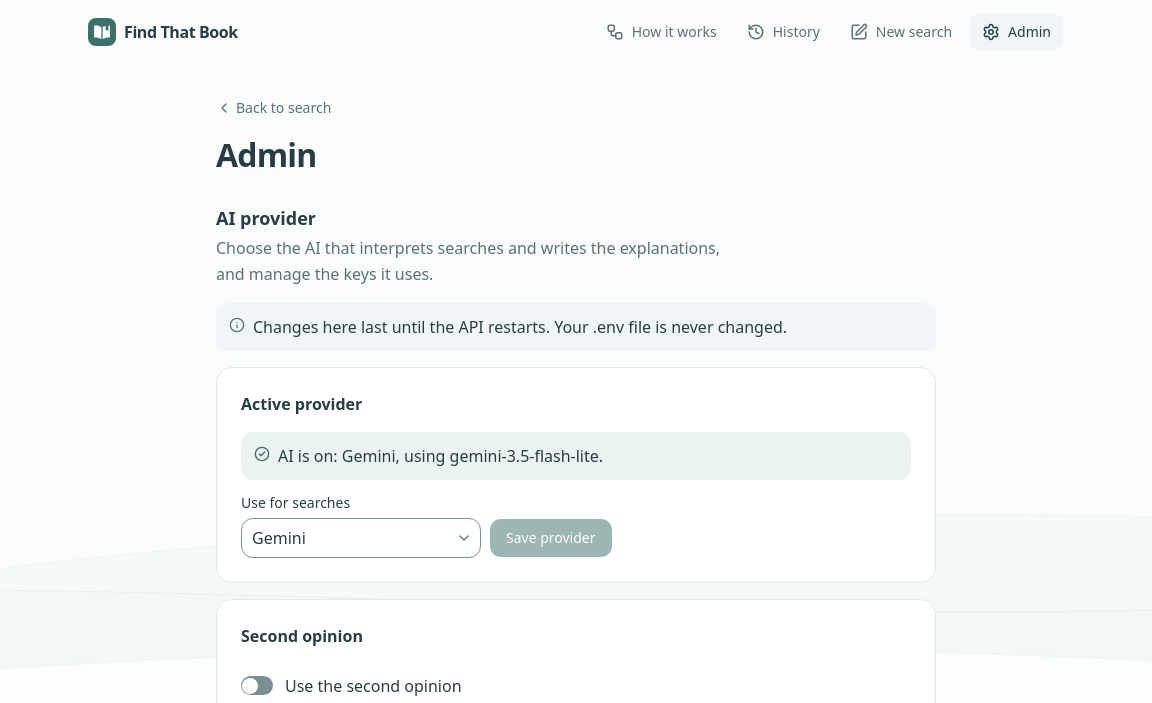
Test case: Admin page › warns before choosing a provider without a key, and shows a failed save next to the control
The width and height of the screenshot is (1152, 703).
Click the dropdown named "Use for searches".
click(361, 538)  # box left=241, top=518, right=481, bottom=558
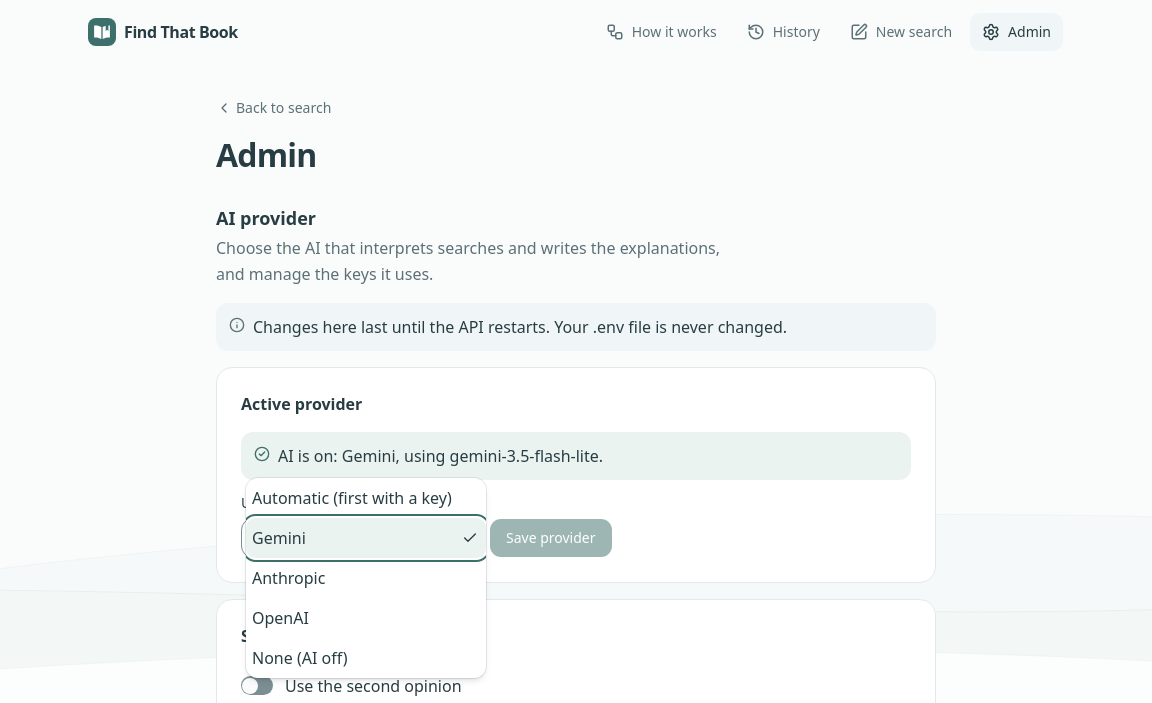
Click the option "Anthropic".
click(289, 578)  # box left=252, top=567, right=325, bottom=589
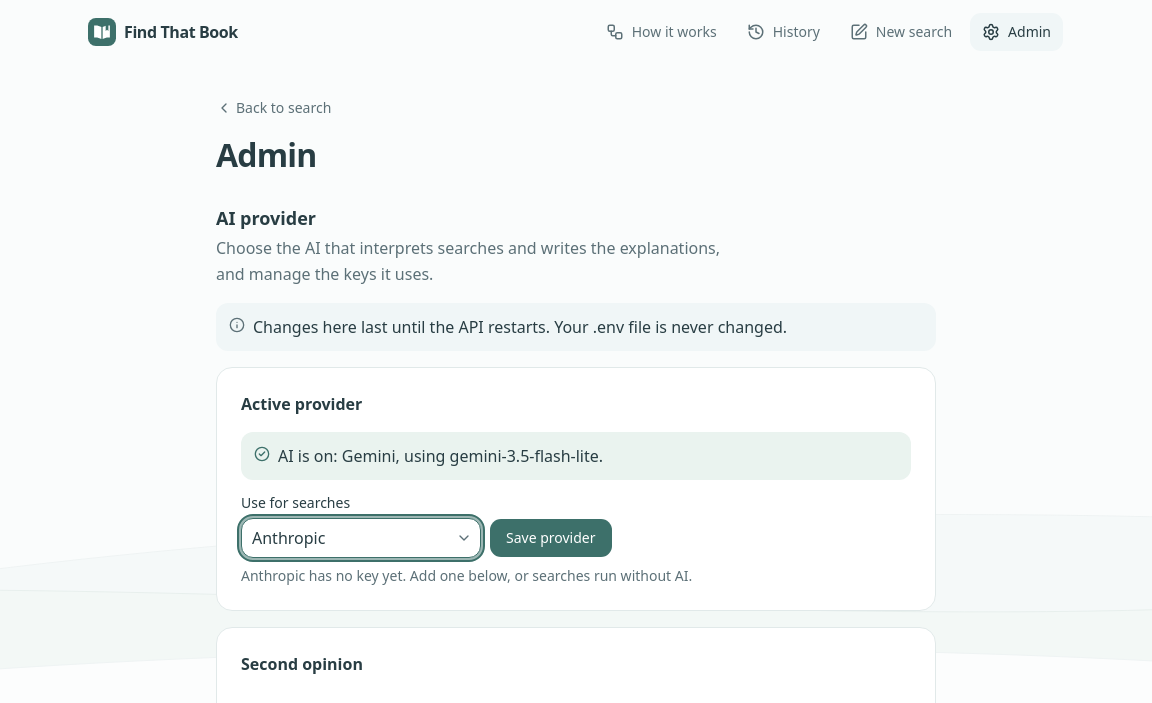
Now the text "Anthropic has no key yet. Add one below, or searches run without AI." is shown, box left=241, top=566, right=692, bottom=585
Click the button "Save provider".
click(551, 538)  # box left=489, top=518, right=612, bottom=558
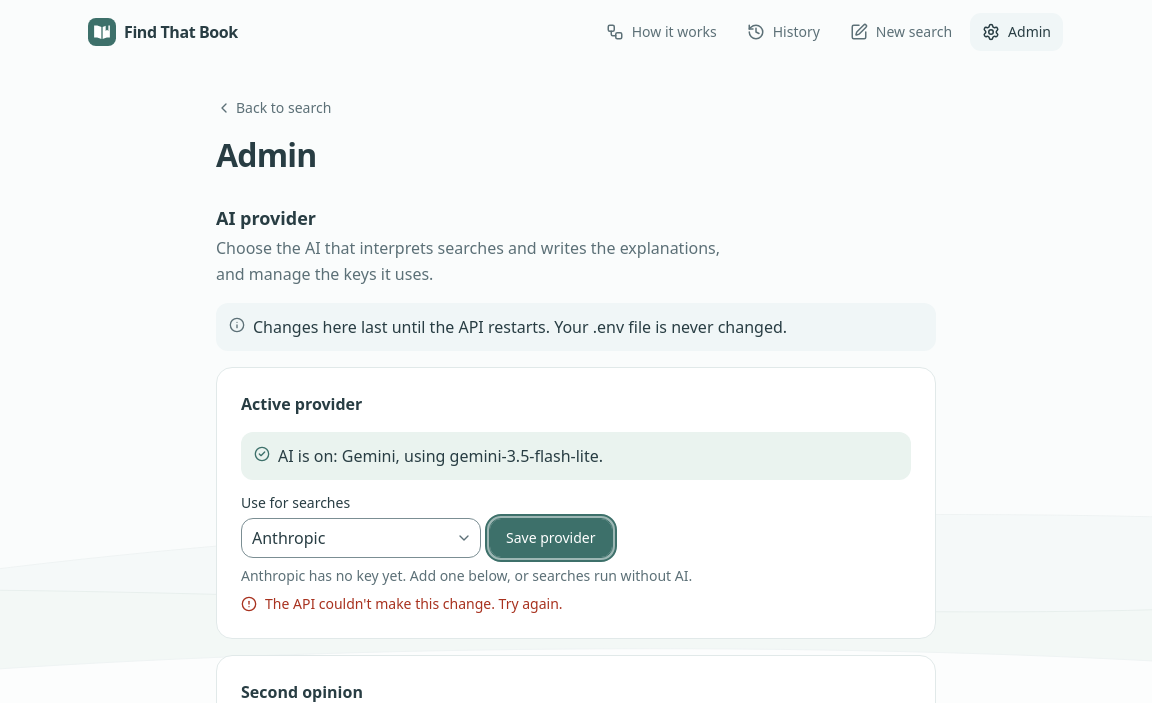
Expected: the text "AI is on: Gemini, using gemini-3.5-flash-lite." is shown, left=278, top=443, right=603, bottom=469
Now the message reads "The API couldn't make this change. Try again.", box left=265, top=594, right=563, bottom=613
